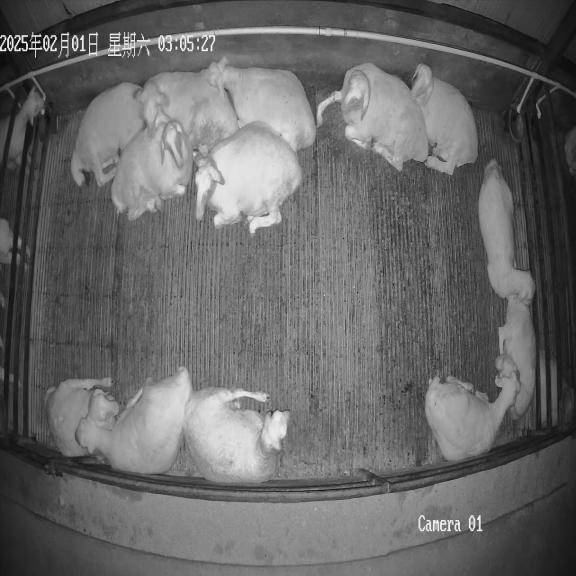lying: (77, 367, 192, 474), (317, 63, 428, 171), (195, 122, 302, 234), (201, 57, 316, 151), (183, 387, 290, 483), (140, 72, 240, 155), (111, 119, 193, 220), (478, 159, 534, 304), (425, 375, 520, 460), (71, 82, 144, 186), (411, 64, 478, 175), (46, 378, 119, 457), (499, 296, 536, 420)
